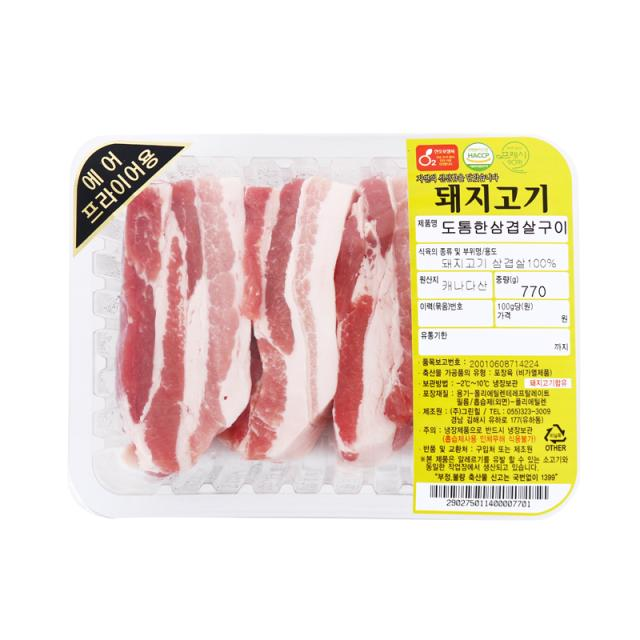pork: (37, 128, 586, 530)
